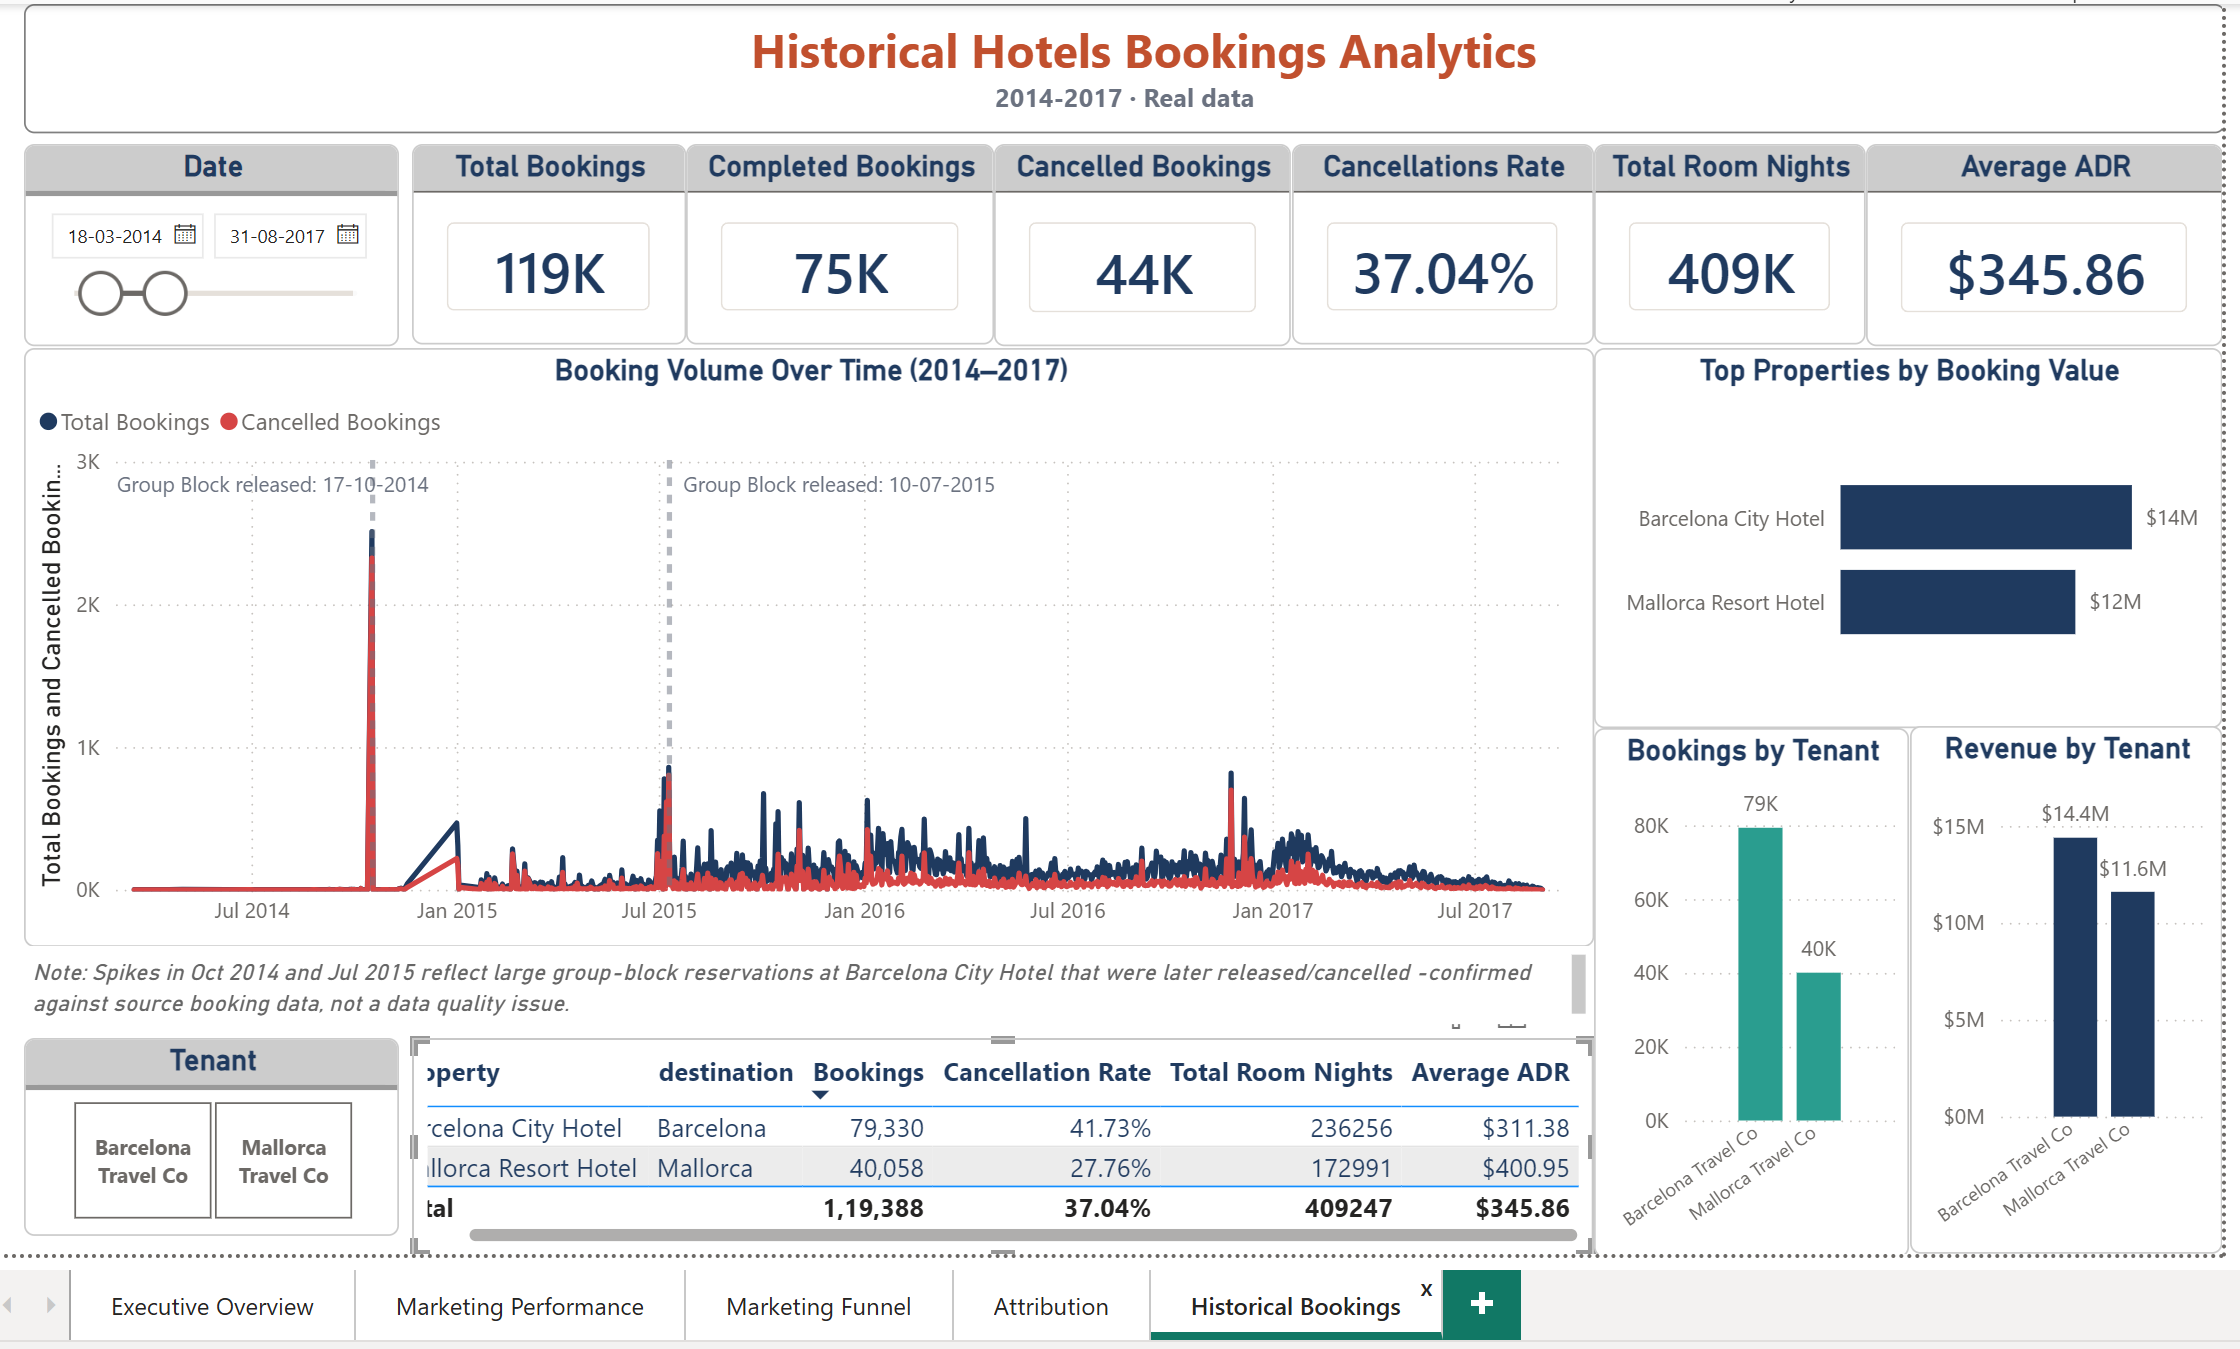

What the dashboard file says about the page in this screenshot:
{"tool":"powerbi","page":{"name":"Historical Bookings","canvas":[1280,720],"ordinal":4},"visuals":[{"type":"slicer","title":"Date","fields":{"Values":["dim_date.date_day"]},"box":[13.3,80.9,216.2,116.7],"z":0},{"type":"textbox","box":[13.3,0,1268.1,74.3],"z":1000},{"type":"slicer","title":"Tenant","fields":{"Values":["dim_tenant.tenant_name"]},"box":[13.3,595.6,216.2,114.1],"z":2000},{"type":"cardVisual","title":"Total Bookings","fields":{"Data":["_Measures.Total Bookings"]},"box":[237.4,80.9,157.8,115.4],"z":3000},{"type":"cardVisual","title":"Completed Bookings","fields":{"Data":["_Measures.Completed Bookings"]},"box":[395.3,80.9,177.7,115.4],"z":4000},{"type":"cardVisual","title":"Cancelled Bookings","fields":{"Data":["_Measures.Cancelled Bookings"]},"box":[573,80.9,171.1,116.7],"z":5000},{"type":"cardVisual","title":"Cancellations Rate","fields":{"Data":["_Measures.Cancellation Rate"]},"box":[744.1,80.9,173.8,115.4],"z":6000},{"type":"cardVisual","title":"Total Room Nights","fields":{"Data":["_Measures.Total Room Nights"]},"box":[917.9,80.9,156.5,115.4],"z":7000},{"type":"cardVisual","title":"Average ADR","fields":{"Data":["_Measures.Average ADR"]},"box":[1074.4,80.9,205.6,116.7],"z":8000},{"type":"lineChart","title":"Booking Volume Over Time (2014–2017)","fields":{"Category":["dim_date.date_day"],"Y":["_Measures.Total Bookings","_Measures.Cancelled Bookings"]},"box":[13.3,197.6,904.6,344.9],"z":9000},{"type":"clusteredBarChart","title":"Top Properties by Booking Value","fields":{"Category":["dim_property.property_name"],"Y":["_Measures.Total Booking Value"]},"box":[917.9,197.6,362.1,218.9],"z":10000},{"type":"tableEx","fields":{"Values":["dim_property.property_name","dim_property.destination","_Measures.Total Bookings","_Measures.Cancellation Rate","_Measures.Total Room Nights","_Measures.Average ADR"]},"box":[237.4,595.6,680.5,126],"z":11000},{"type":"textbox","box":[13.3,542.5,904.6,45.1],"z":12000},{"type":"clusteredColumnChart","title":"Bookings by Tenant","fields":{"Category":["dim_tenant.tenant_name"],"Y":["_Measures.Tenant Bookings"]},"box":[917.9,416.5,181.7,305.1],"z":13000},{"type":"clusteredColumnChart","title":"Revenue by Tenant","fields":{"Category":["dim_tenant.tenant_name"],"Y":["_Measures.Tenant Revenue"]},"box":[1100,416,180,304],"z":14000}]}

Visuals, with their boxes on the page's 1280x720 design canvas (x1, y1, x2, y2). These are canvas units, not pixel positions in the 2240x1349 screenshot, which may show the page scaled, cropped or inside an application window:
"Date" slicer: bbox=(13, 81, 230, 198)
textbox: bbox=(13, 0, 1281, 74)
"Tenant" slicer: bbox=(13, 596, 230, 710)
"Total Bookings" cardVisual: bbox=(237, 81, 395, 196)
"Completed Bookings" cardVisual: bbox=(395, 81, 573, 196)
"Cancelled Bookings" cardVisual: bbox=(573, 81, 744, 198)
"Cancellations Rate" cardVisual: bbox=(744, 81, 918, 196)
"Total Room Nights" cardVisual: bbox=(918, 81, 1074, 196)
"Average ADR" cardVisual: bbox=(1074, 81, 1280, 198)
"Booking Volume Over Time (2014–2017)" lineChart: bbox=(13, 198, 918, 542)
"Top Properties by Booking Value" clusteredBarChart: bbox=(918, 198, 1280, 416)
tableEx - dim_property.property_name x dim_property.destination: bbox=(237, 596, 918, 722)
textbox: bbox=(13, 542, 918, 588)
"Bookings by Tenant" clusteredColumnChart: bbox=(918, 416, 1100, 722)
"Revenue by Tenant" clusteredColumnChart: bbox=(1100, 416, 1280, 720)
